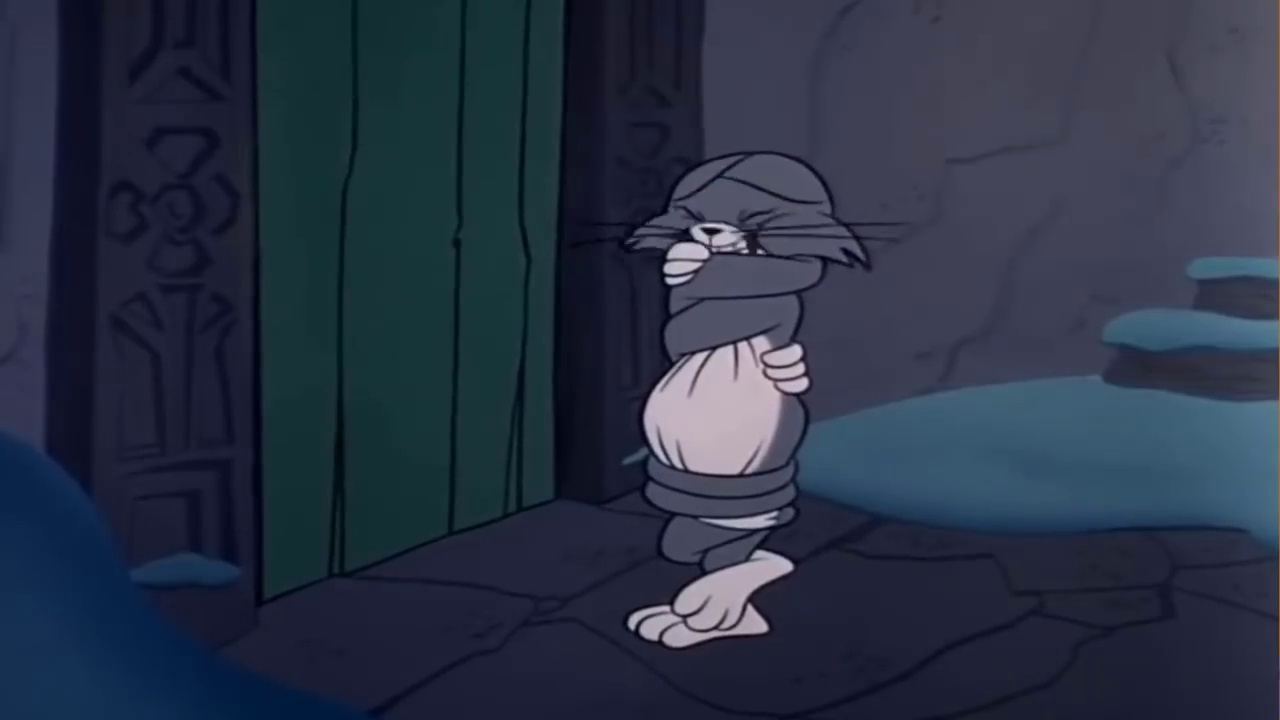face: (670, 195, 801, 256)
